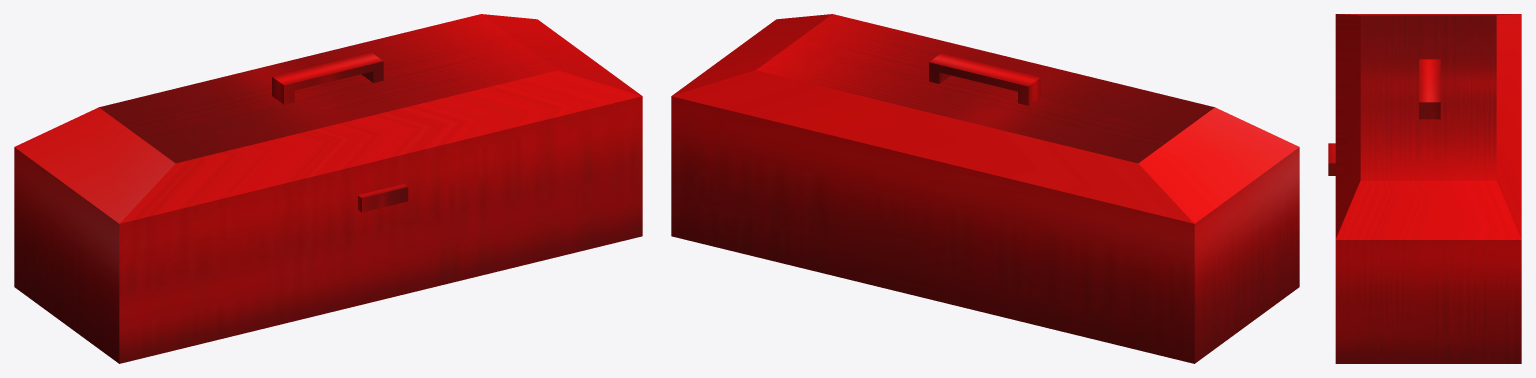
Rendered from Herramientas.fbx.
3 views of the same model, side by side, from view 1: azimuth 30°, elevation 25°; view 2: azimuth 150°, elevation 25°; view 3: azimuth 270°, elevation 25° (orthographic). The views are drawn at different scales.
Visible parts, largest first — view 1: Cube.002; view 2: Cube.002; view 3: Cube.002.
Part boxes in pixels (bbox=[...]): Cube.002: bbox=[14, 14, 642, 363]; Cube.002: bbox=[671, 14, 1299, 363]; Cube.002: bbox=[1328, 14, 1521, 363].
Bounding box in the file's own units: 783 × 275 × 282.
Materials: 3 (3 with a texture image).
